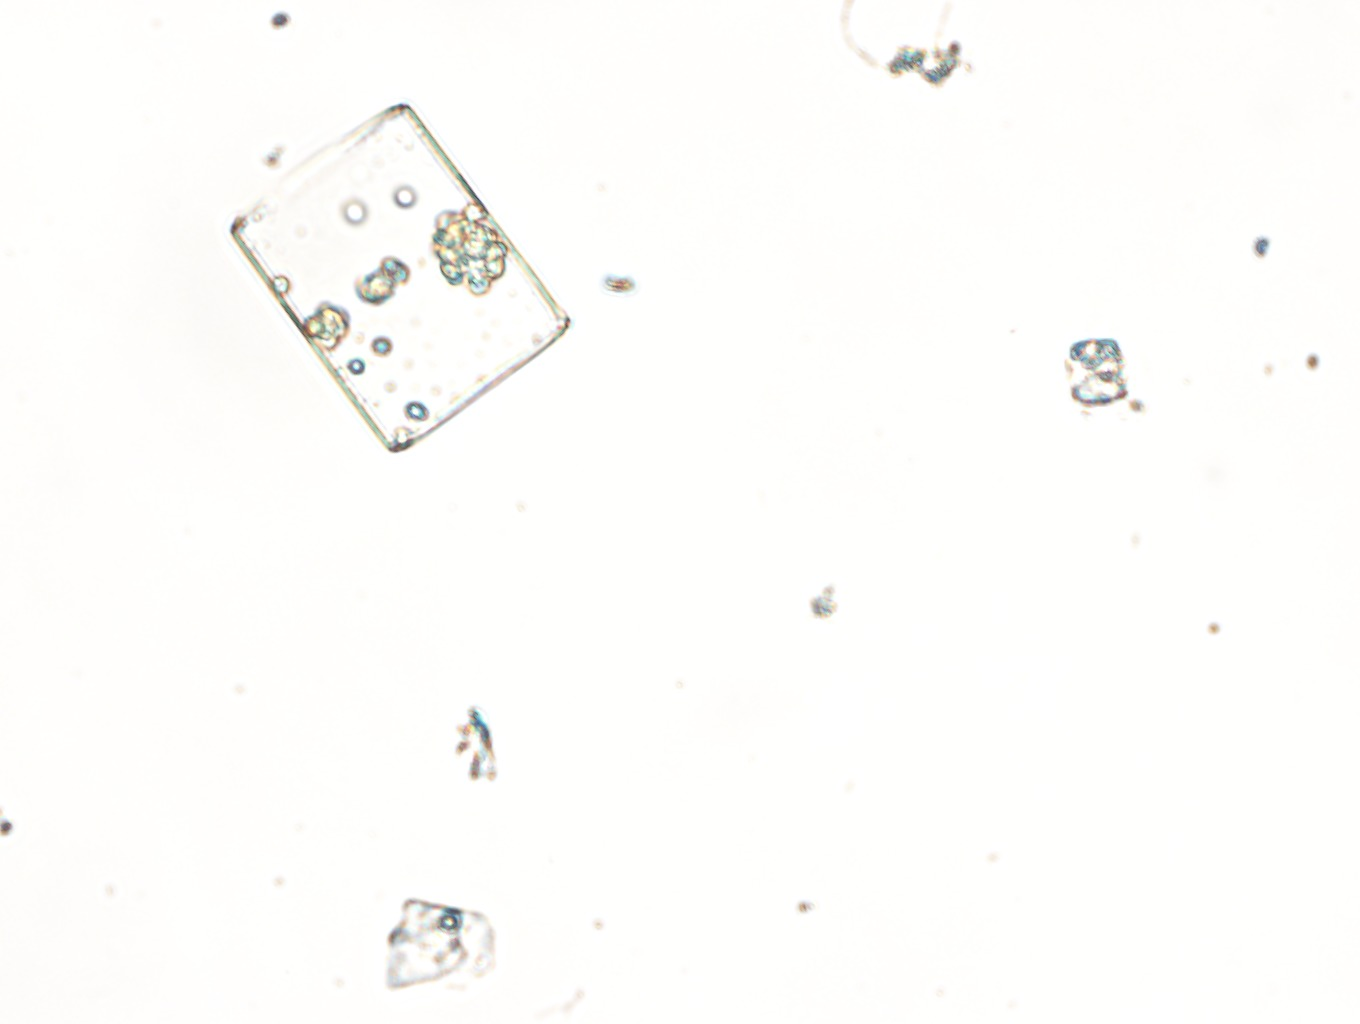guinardia flaccida: (226, 103, 570, 453)
